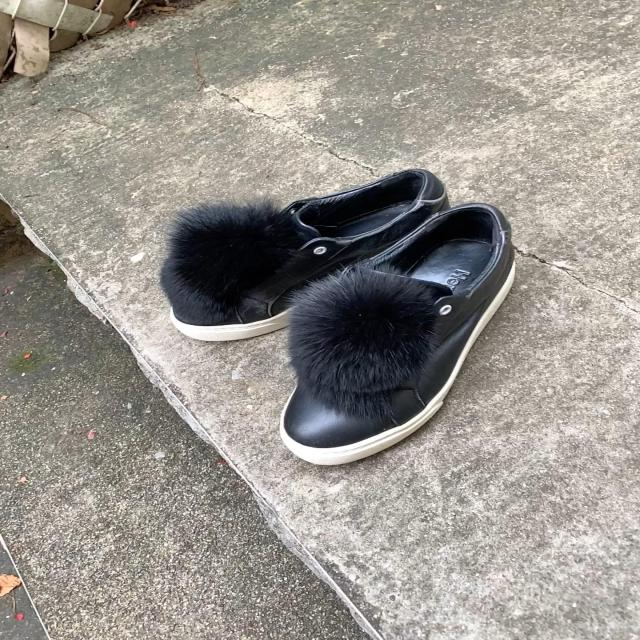shoe: (276, 203, 514, 464), (175, 167, 433, 341)
